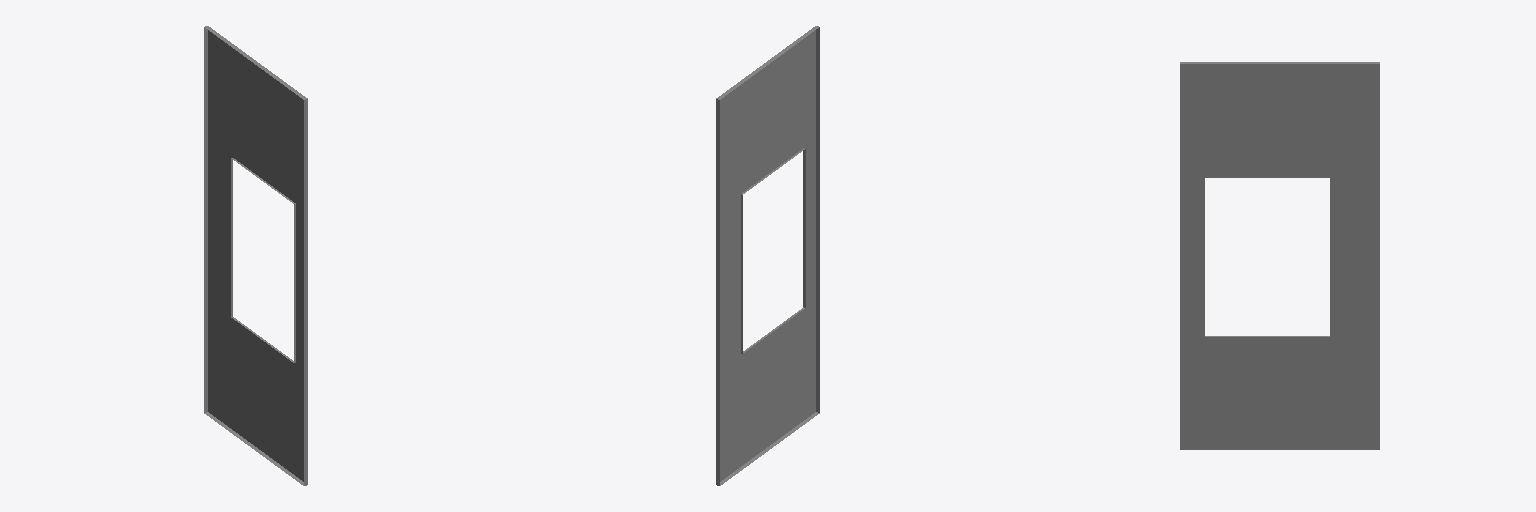
File: men.obj
3 views of the same model, side by side, from view 1: azimuth 30°, elevation 25°; view 2: azimuth 150°, elevation 25°; view 3: azimuth 270°, elevation 25° (orthographic).
Parts seen in each view (by area): view 1: STC800_men; view 2: STC800_men; view 3: STC800_men.
Boxes of the visible parts, x1,y1,x2,y2 form: STC800_men: [204, 26, 307, 485]; STC800_men: [716, 26, 819, 485]; STC800_men: [1180, 62, 1379, 449].
Bounding box in the file's own units: 0.04 × 3.4 × 1.6.